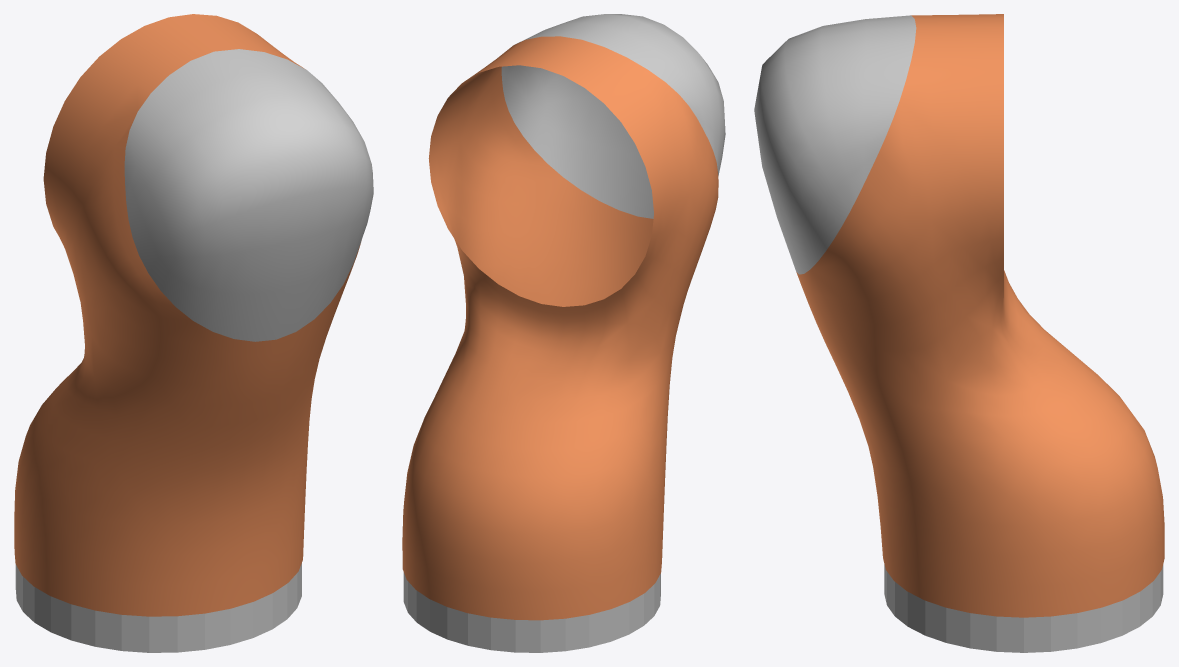
Rendered from arm_segment_b.dae.
3 views of the same model, side by side, from view 1: azimuth 30°, elevation 25°; view 2: azimuth 150°, elevation 25°; view 3: azimuth 270°, elevation 25° (orthographic). The views are drawn at different scales.
Parts seen in each view (by area): view 1: segment; view 2: segment; view 3: segment.
Part boxes in pixels (x1,y1,x2,y2): segment: (14, 14, 373, 652); segment: (402, 14, 725, 652); segment: (754, 14, 1164, 652).
Size of the model in its own units: 0.124 by 0.1765 by 0.269.
